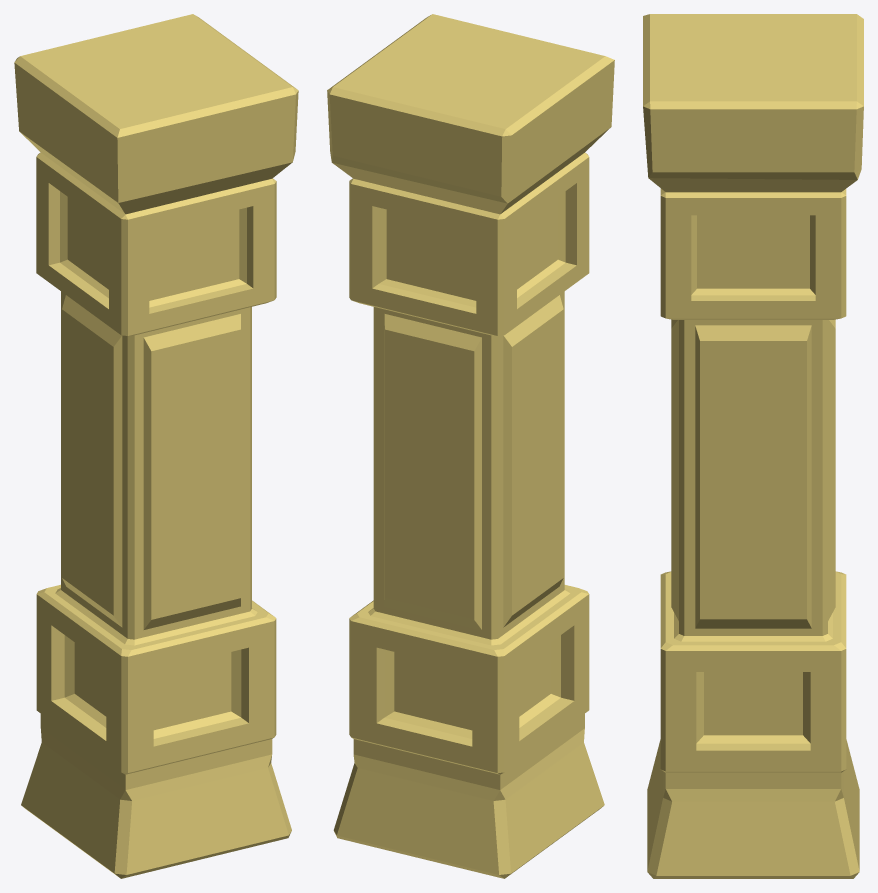
File: sutuntek.fbx
3 views of the same model, side by side, from view 1: azimuth 30°, elevation 25°; view 2: azimuth 150°, elevation 25°; view 3: azimuth 270°, elevation 25° (orthographic). The views are drawn at different scales.
Visible parts, largest first — view 1: Cube.006; view 2: Cube.006; view 3: Cube.006.
Boxes of the visible parts, left/top/right/bottom form: Cube.006: left=14, top=14, right=298, bottom=878; Cube.006: left=327, top=14, right=614, bottom=878; Cube.006: left=643, top=14, right=863, bottom=878.
Bounding box in the file's own units: 297 × 1155 × 297.
